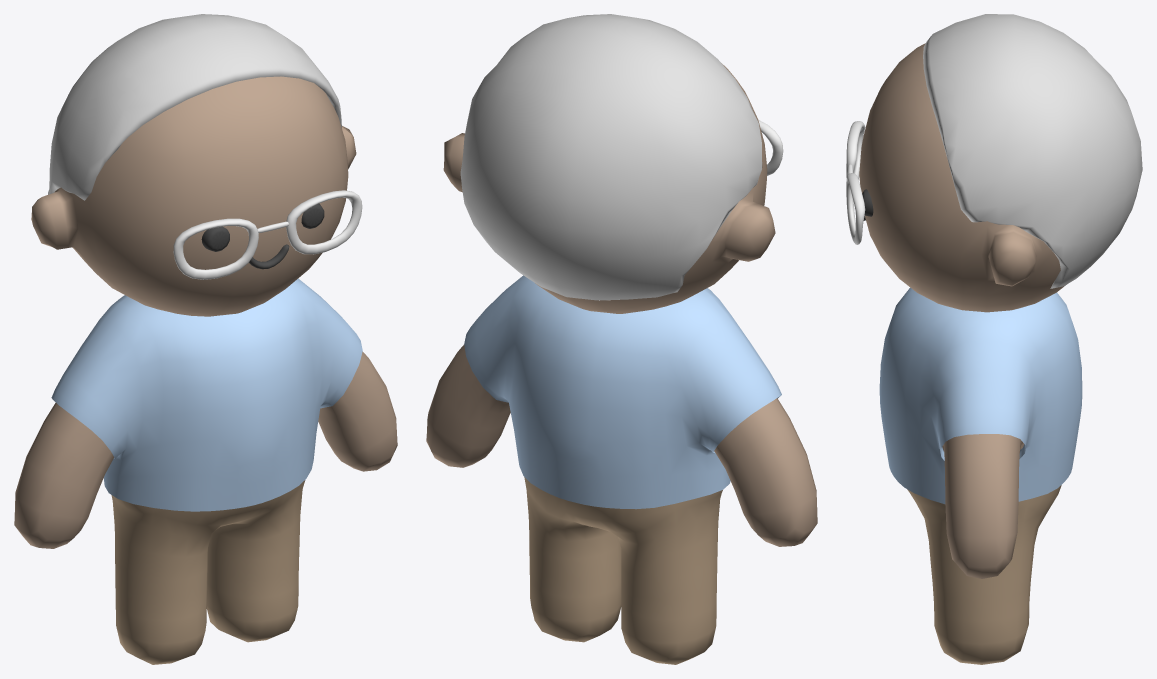
The model's file is rajiv2.fbx.
3 renders of one model, left to right at view 1: azimuth 30°, elevation 25°; view 2: azimuth 150°, elevation 25°; view 3: azimuth 270°, elevation 25°, orthographic. The views are drawn at different scales.
Parts seen in each view (by area): view 1: Shirt2, Head2, Pants2, Hair2, Body2, pTorus6, EyeL2; view 2: Hair2, Shirt2, Pants2, Body2, Head2, pTorus6; view 3: Hair2, Shirt2, Head2, Pants2, Body2, pTorus6.
Part boxes in pixels (x1,y1,x2,y2): Shirt2: (51,278,362,511); Head2: (31,76,356,316); Pants2: (111,480,305,664); Hair2: (48,14,341,200); Body2: (14,351,397,548); pTorus6: (173,190,362,279); EyeL2: (201,226,229,251); Hair2: (460,14,762,300); Shirt2: (464,275,781,509); Pants2: (524,477,722,664); Body2: (426,344,817,546); Head2: (443,63,775,313); pTorus6: (758,120,783,175); Hair2: (923,14,1142,288); Shirt2: (879,287,1082,504); Head2: (859,43,1065,312); Pants2: (907,485,1061,664); Body2: (942,434,1024,578); pTorus6: (846,121,865,244).
Bounding box in the file's own units: 3.28 × 5.18 × 2.29.
